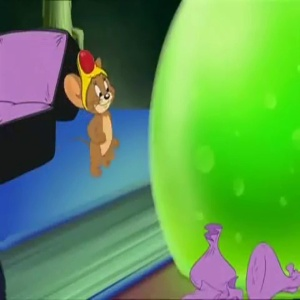Jerry: (63, 54, 120, 111)
